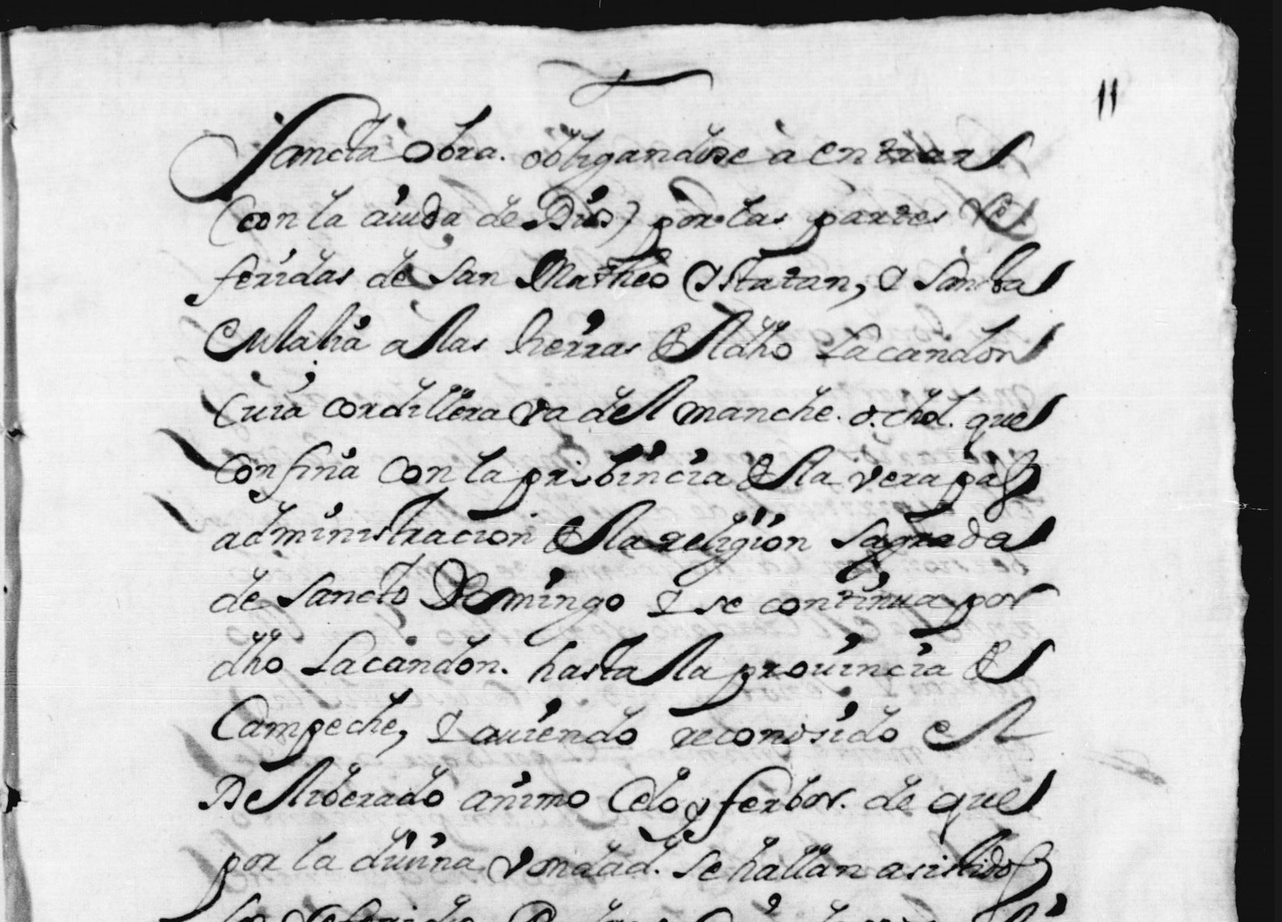lacandon: (815, 314, 1064, 364), (300, 629, 500, 676)
